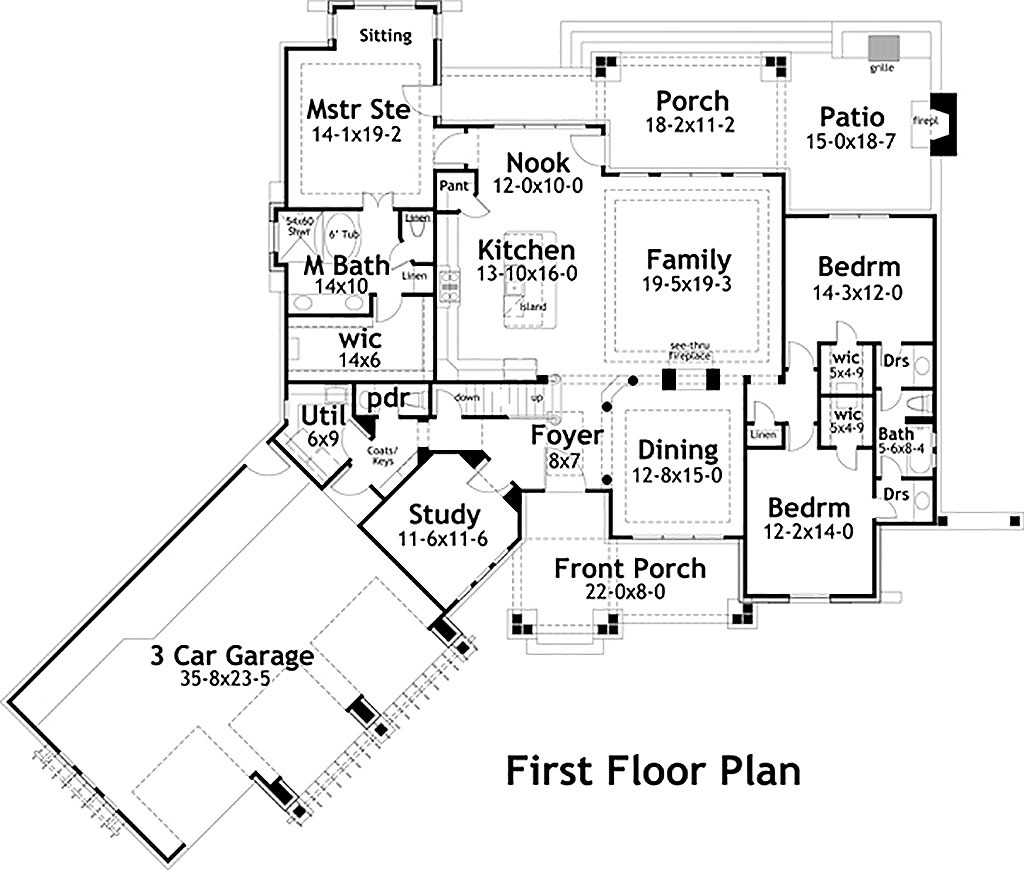door: (540, 442, 594, 496), (467, 449, 519, 504), (569, 129, 627, 173), (239, 437, 293, 481), (329, 460, 375, 506), (397, 81, 451, 118), (429, 130, 477, 167), (433, 387, 473, 427), (370, 286, 409, 327), (778, 336, 821, 372), (829, 314, 874, 348), (459, 183, 497, 218), (343, 421, 373, 459), (744, 396, 781, 422), (875, 384, 904, 417), (382, 238, 410, 272), (351, 188, 401, 207), (785, 422, 813, 453), (836, 442, 863, 473), (871, 495, 896, 519), (882, 456, 901, 486)
kitchen_bar: (496, 221, 570, 345)
large_sink: (292, 288, 370, 317), (904, 383, 937, 417), (397, 391, 431, 419)
small_sink: (905, 349, 937, 386), (906, 481, 930, 522)
tub: (309, 204, 367, 275), (910, 419, 936, 475)
window: (458, 545, 523, 594), (494, 117, 574, 137), (823, 206, 898, 221), (650, 171, 747, 177)
